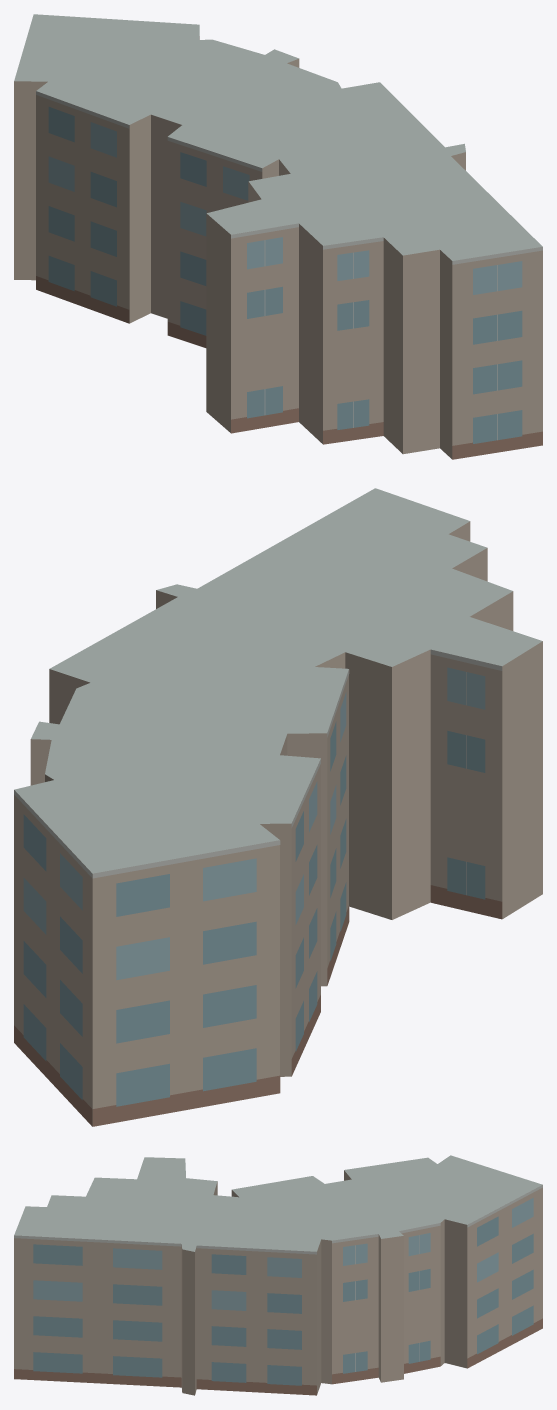
Rendered from survey-upis-32776053.glb.
3 views of the same model, one above another, from view 1: azimuth 30°, elevation 25°; view 2: azimuth 150°, elevation 25°; view 3: azimuth 270°, elevation 25° (orthographic). The views are drawn at different scales.
Visible parts, largest first — view 1: survey-upis-32776053.tmp; view 2: survey-upis-32776053.tmp; view 3: survey-upis-32776053.tmp.
Boxes of the visible parts, x1,y1,x2,y2 form: survey-upis-32776053.tmp: (14,14,542,459); survey-upis-32776053.tmp: (14,488,542,1126); survey-upis-32776053.tmp: (14,1155,542,1395).
Size of the model in its own units: 18.48 by 12.8 by 42.71.
